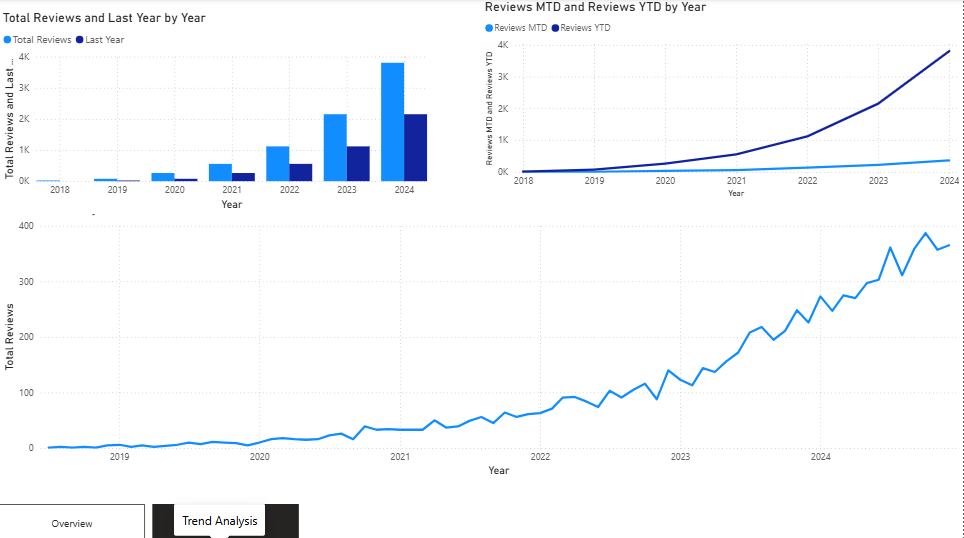

The page's visual inventory and layout, read from the dashboard file:
{"tool":"powerbi","page":{"name":"Trend Analysis","canvas":[1280,720],"ordinal":1},"visuals":[{"type":"pageNavigator","box":[0,670.2,399.5,49.8],"z":0},{"type":"lineChart","fields":{"Y":["Dim_Date.Total Reviewss"],"Category":["Dim_Date.Date.Variation.Date Hierarchy.Year","Dim_Date.Date.Variation.Date Hierarchy.Month"]},"box":[0,268.8,1280,371.2],"z":1},{"type":"clusteredColumnChart","fields":{"Category":["Dim_Date.Date.Variation.Date Hierarchy.Year"],"Y":["Dim_Date.Total Reviewss","Dim_Date.Last Year"]},"box":[0,14.6,573.7,270.7],"z":2},{"type":"lineChart","fields":{"Category":["Dim_Date.Date.Variation.Date Hierarchy.Year"],"Y":["reviews.Reviews MTD","reviews.Reviews YTD"]},"box":[640,0,640,268.8],"z":3}]}

Visuals, with their boxes in screenshot pixels (x1, y1, x2, y2):
pageNavigator: [x1=18, y1=461, x2=312, y2=497]
lineChart - Dim_Date.Total Reviewss x Dim_Date.Date.Variation.Date Hierarchy.Year: [x1=18, y1=165, x2=959, y2=438]
clusteredColumnChart - Dim_Date.Date.Variation.Date Hierarchy.Year x Dim_Date.Total Reviewss: [x1=18, y1=0, x2=440, y2=177]
lineChart - Dim_Date.Date.Variation.Date Hierarchy.Year x reviews.Reviews MTD: [x1=489, y1=0, x2=959, y2=165]
